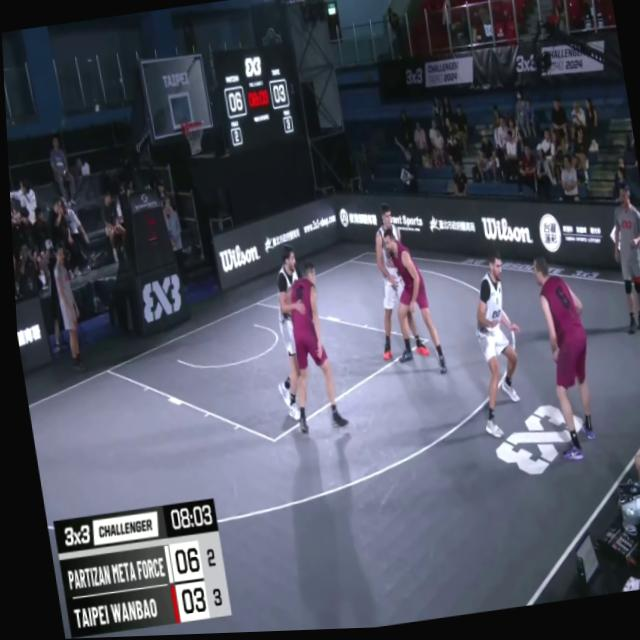hoop: (178, 118, 207, 158)
player: (525, 253, 600, 468), (453, 248, 532, 445), (272, 262, 346, 440), (252, 242, 318, 426), (356, 202, 426, 365), (375, 224, 444, 384)
